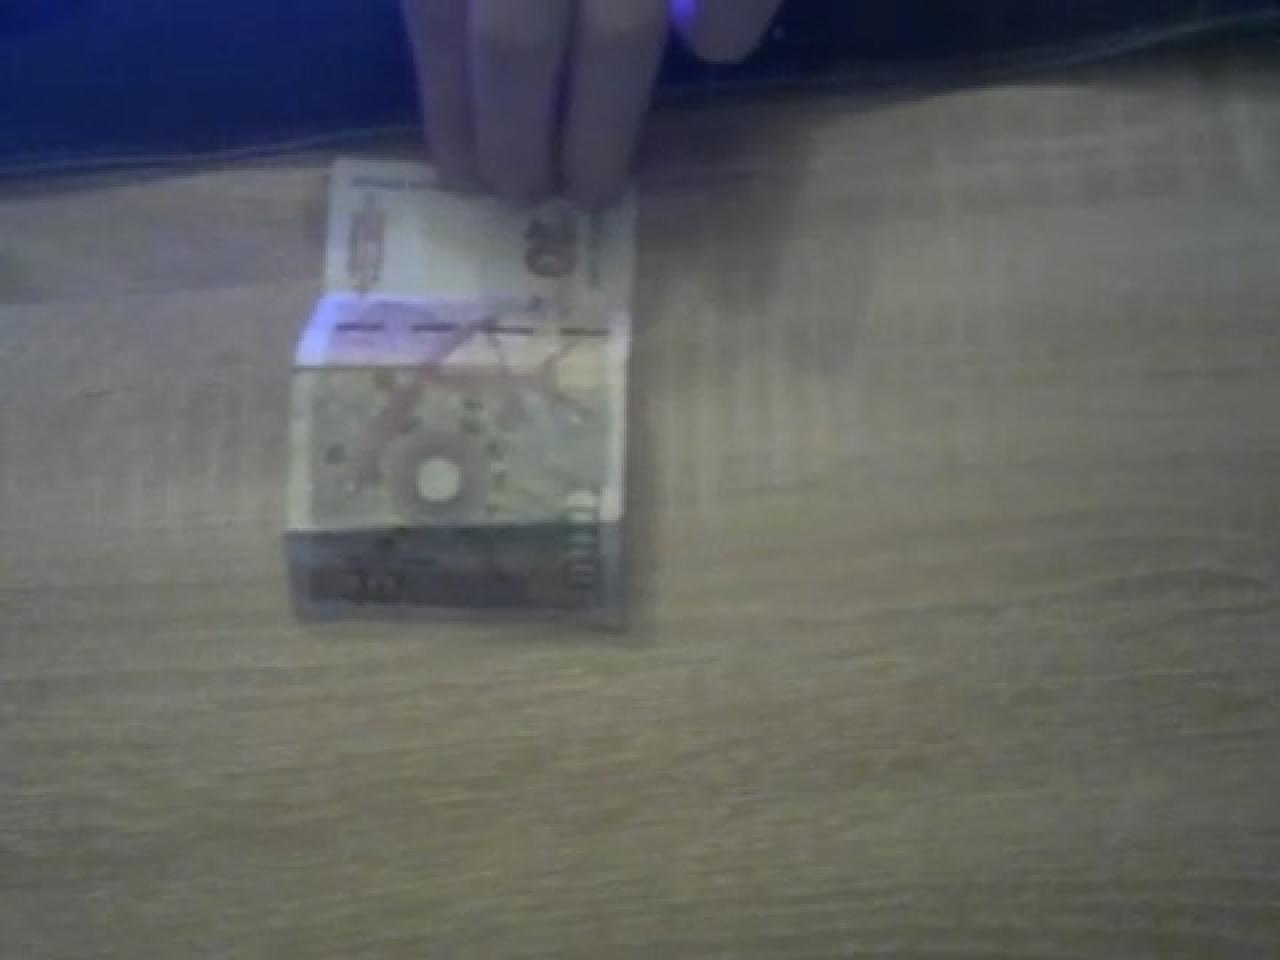10leva: (280, 157, 632, 629)
